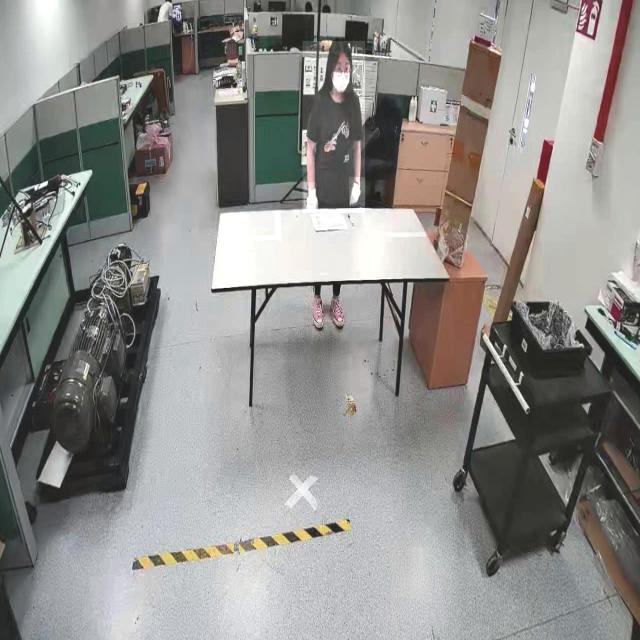face_mask: (332, 63, 352, 93)
hand_glove: (348, 177, 366, 206), (304, 182, 316, 212)
head_nohelmet: (328, 36, 352, 58)
person: (302, 41, 365, 213)
shoes: (308, 291, 328, 329), (330, 295, 346, 331)
